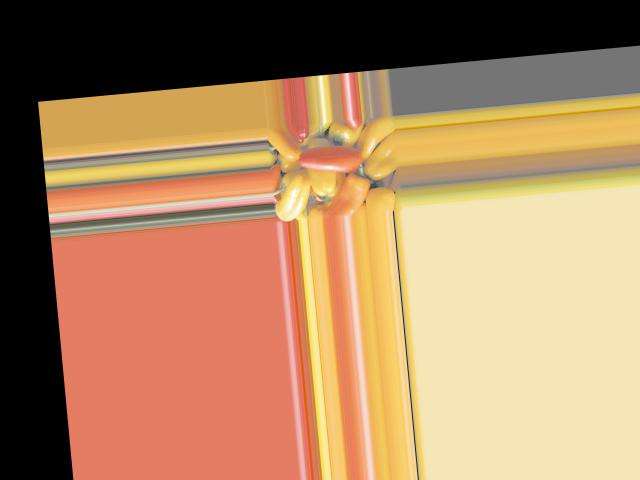bell_pepper: (271, 173, 316, 220)
